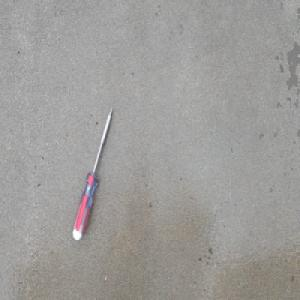Screwdriver: (71, 104, 114, 241)
